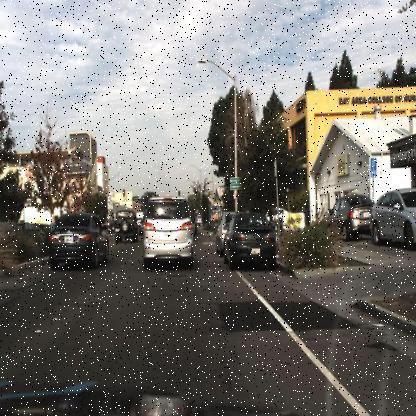car: (134, 184, 202, 277), (42, 204, 112, 281), (220, 210, 282, 281), (142, 194, 193, 267), (368, 184, 414, 252), (324, 183, 375, 239), (107, 198, 142, 253), (265, 198, 296, 234), (214, 208, 226, 258)
